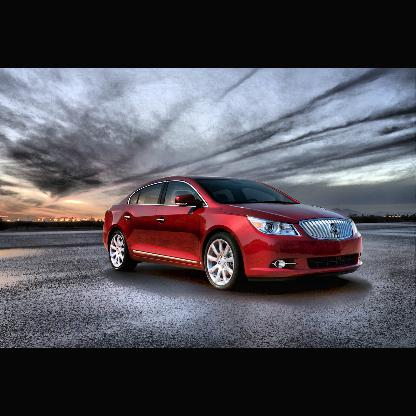Buick Verano Sedan 2012: (102, 173, 365, 292)
